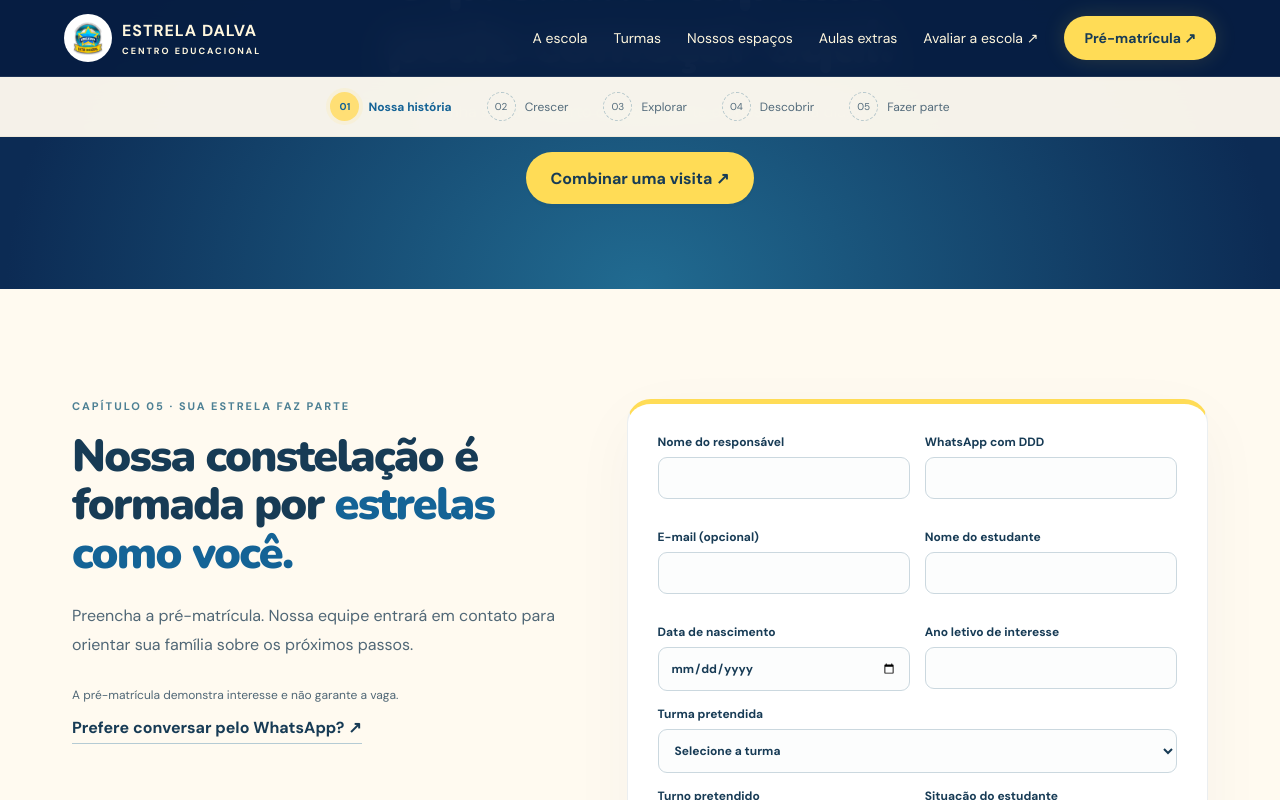
Test: confirma submissão pela Netlify e apresenta avaliação direta
(page scrolled)
Type "Responsável" into the field labelled "Nome do responsável". click: (784, 478)
box: [658,457,910,499]
Type "83999999999" into the field labelled "WhatsApp com DDD". click: (1051, 478)
box: [925,457,1177,499]
Type "Estudante" into the field labelled "Nome do estudante". click: (1051, 573)
box: [925,552,1177,594]
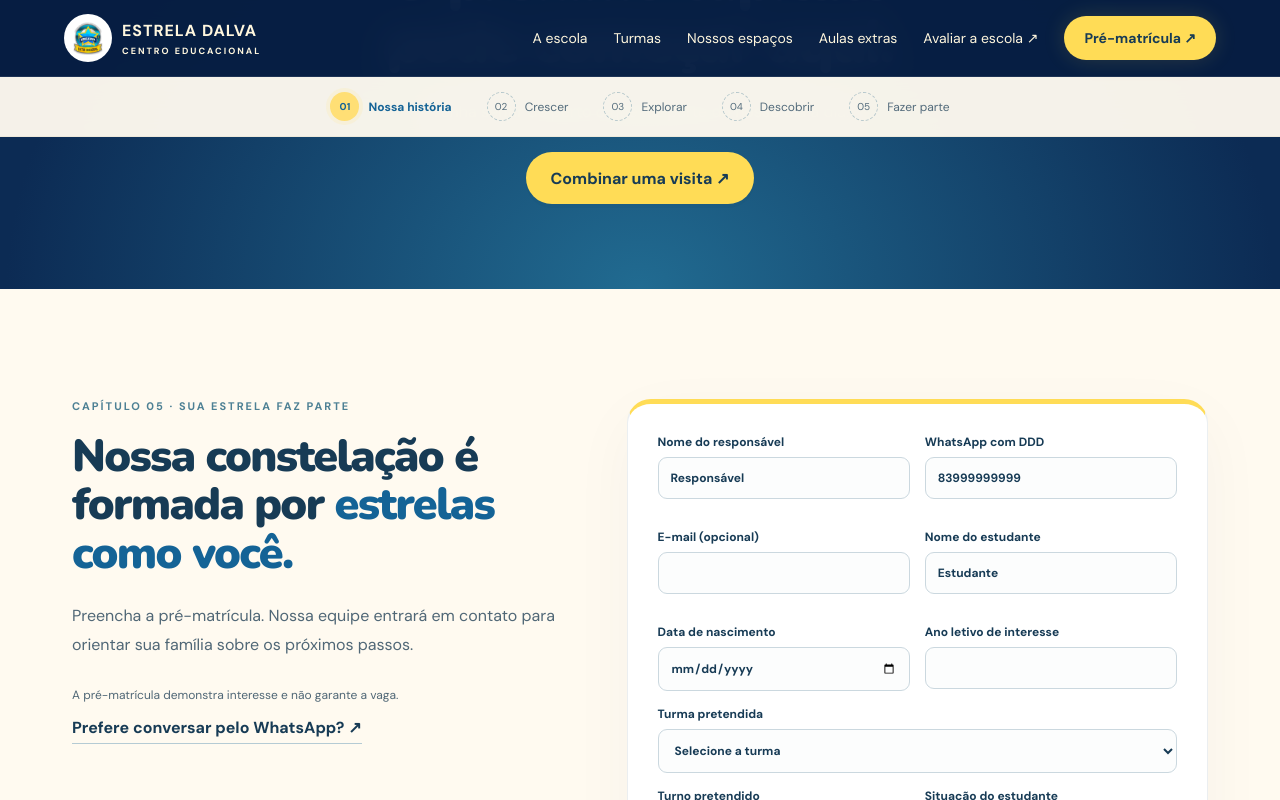
Type "2020-01-01" into the date field labelled "Data de nascimento". click: (784, 669)
box: [658,647,910,691]
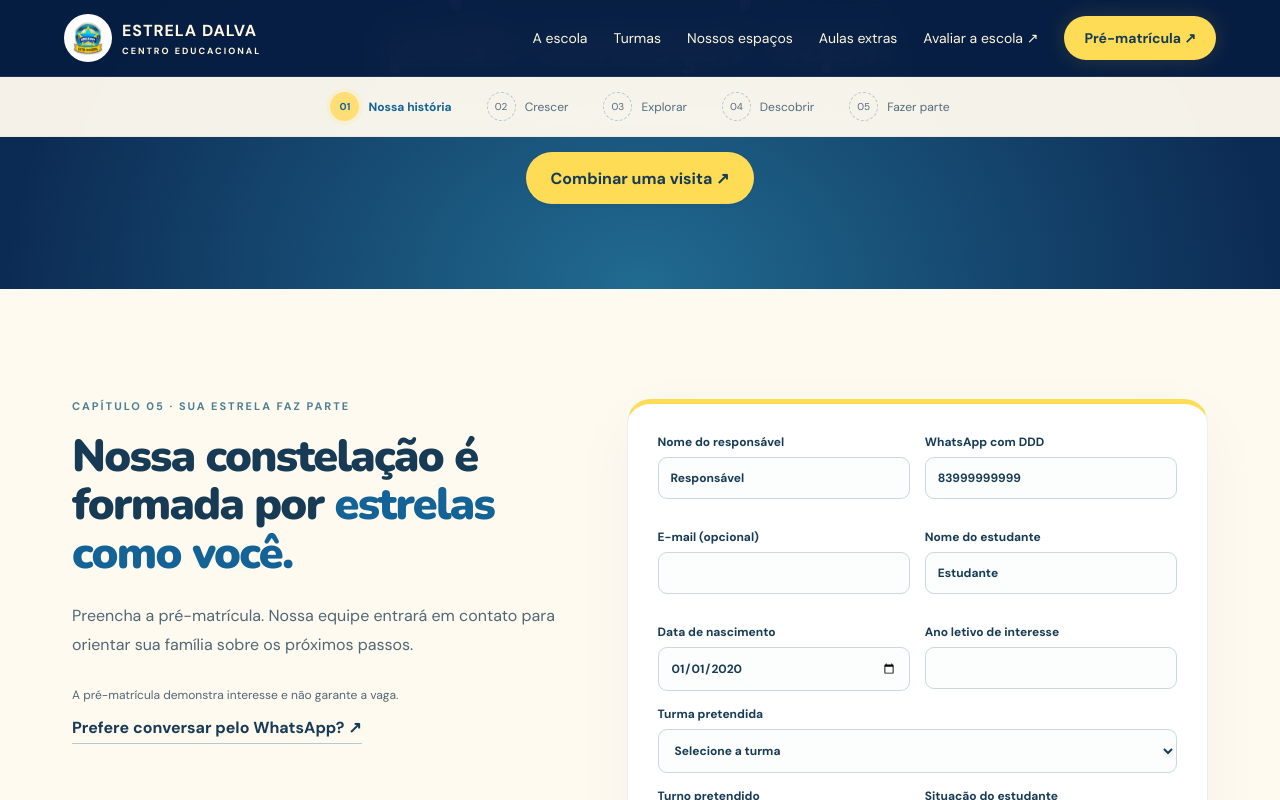
Type "2027" into the number field labelled "Ano letivo de interesse". click: (1051, 668)
box: [925,647,1177,689]
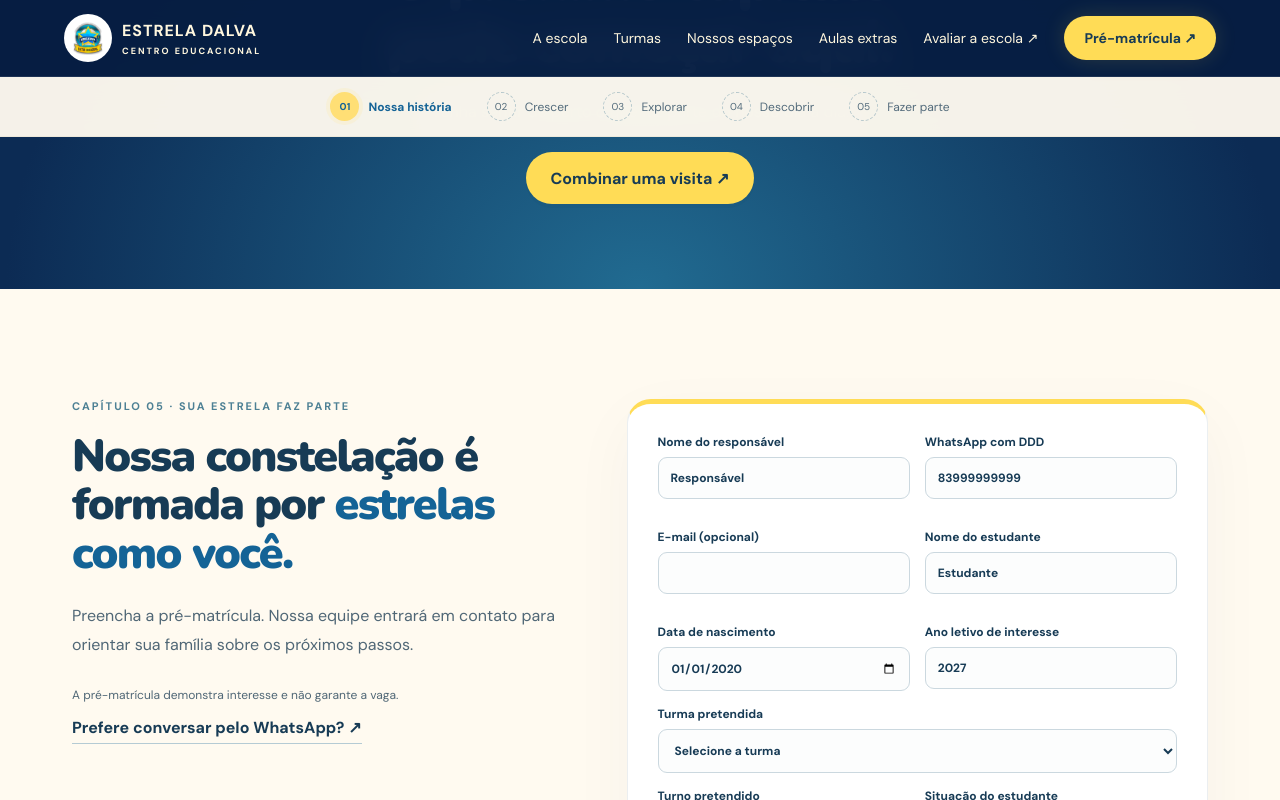
Select "1º Ano" in the dropdown labelled "Turma pretendida". click: (917, 751)
box: [658,729,1177,773]
(page scrolled)
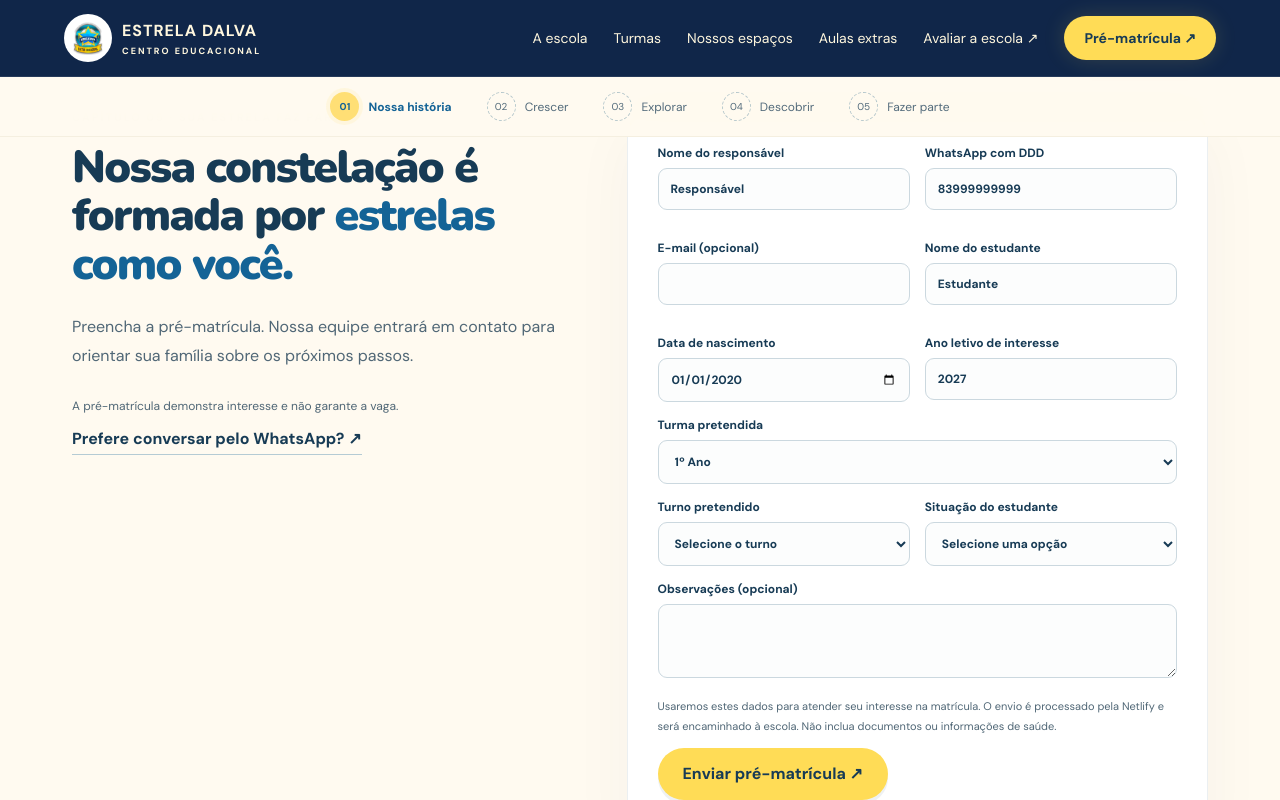
Submit the form
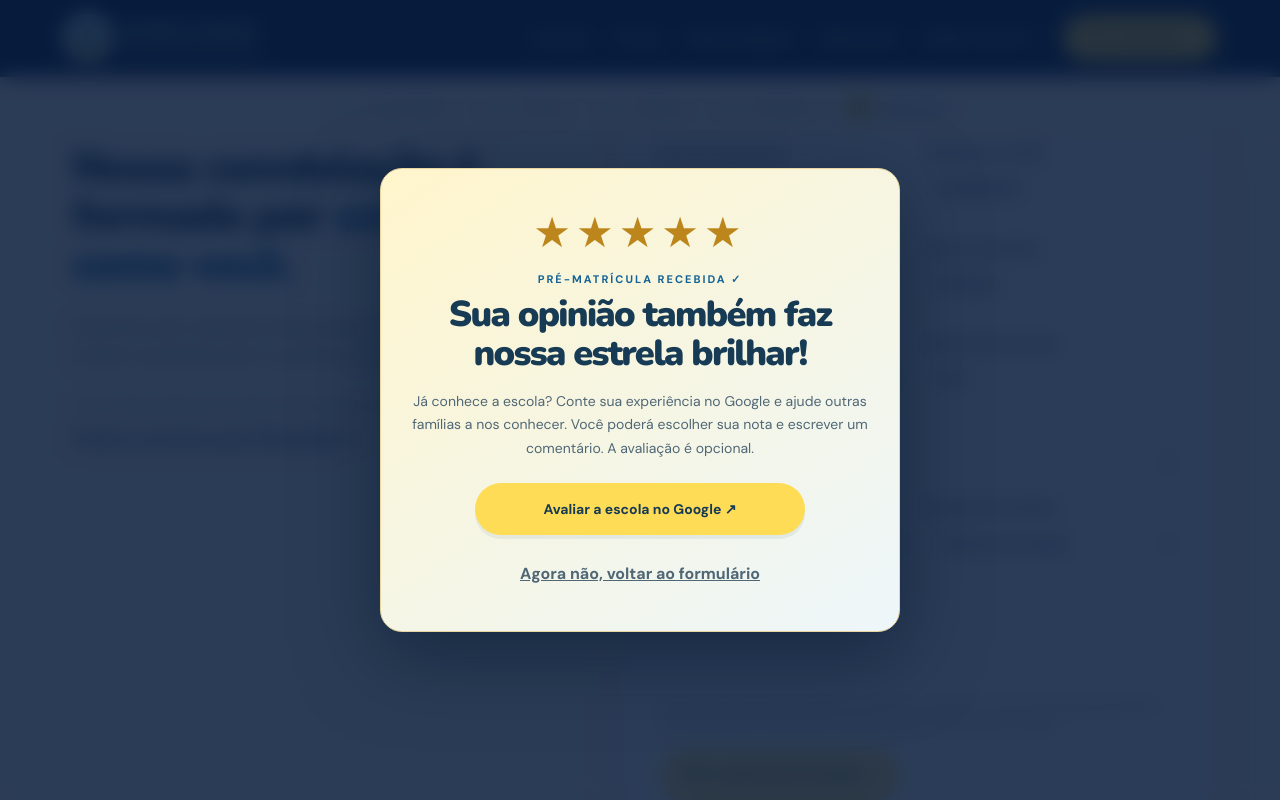
Expected: the dialog is shown, [380,168,900,632]
Click the button "Agora não, voltar ao formulário". click: (640, 573)
box: [510,551,770,595]
(page scrolled)
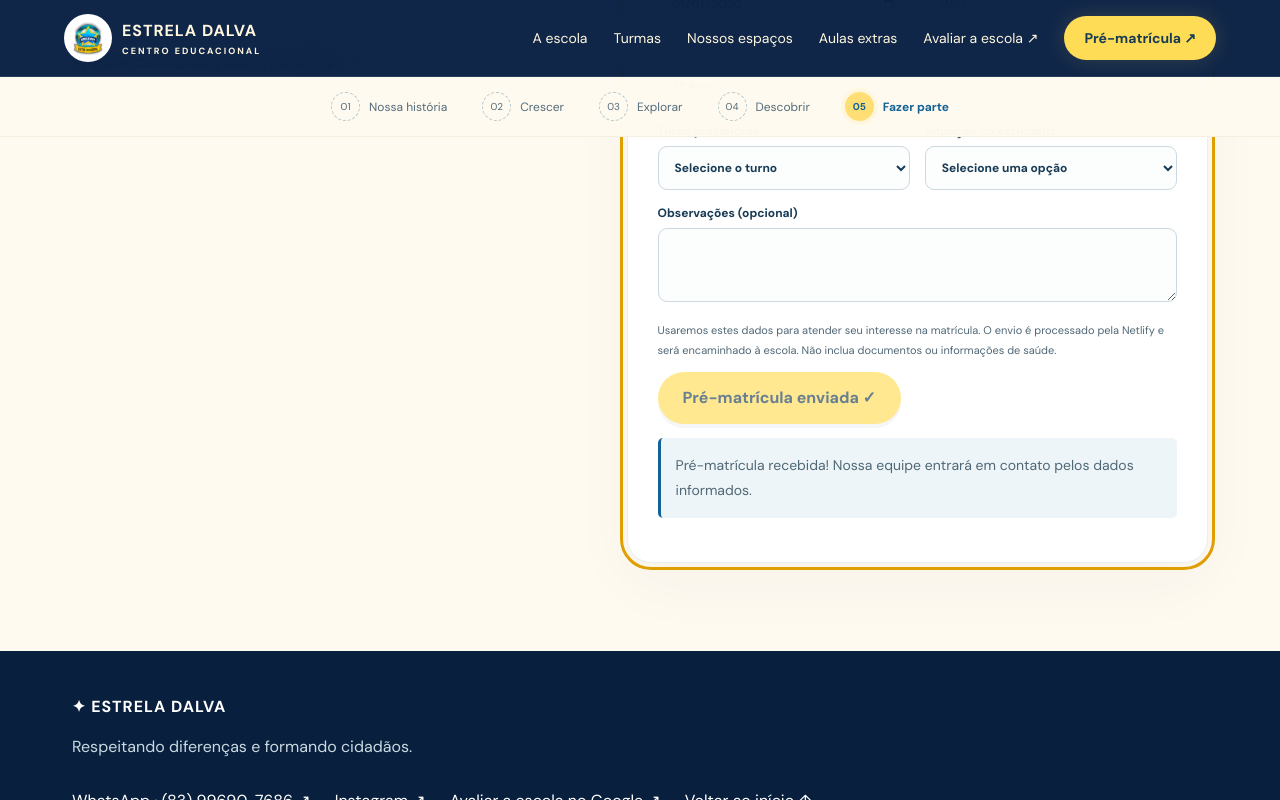
Expected: the message shows "Pré-matrícula recebida", [676,456,1134,499]
Expected: the dialog is gone
